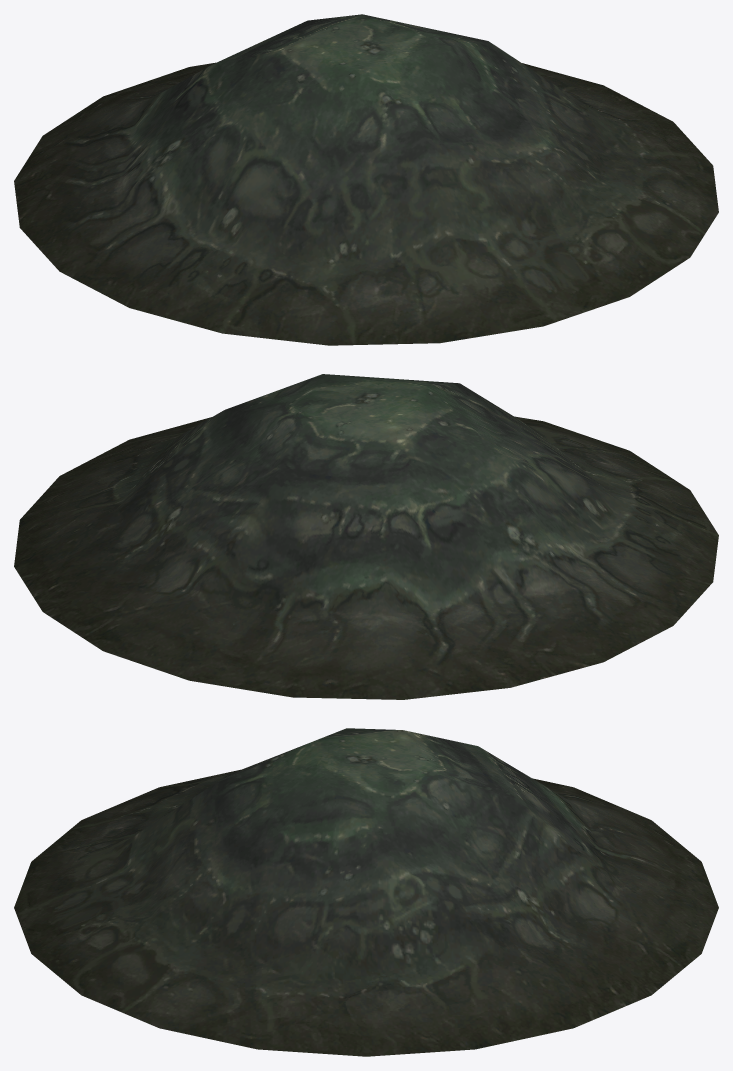
Rendered from stemple_footer_02.fbx.
3 renders of one model, top to bottom at view 1: azimuth 30°, elevation 25°; view 2: azimuth 150°, elevation 25°; view 3: azimuth 270°, elevation 25°, orthographic.
Visible parts, largest first — view 1: sunken_tileset/sunken_rock01_mat; view 2: sunken_tileset/sunken_rock01_mat; view 3: sunken_tileset/sunken_rock01_mat.
Part boxes in pixels (bbox=[...]): sunken_tileset/sunken_rock01_mat: bbox=[14, 14, 718, 345]; sunken_tileset/sunken_rock01_mat: bbox=[14, 374, 718, 699]; sunken_tileset/sunken_rock01_mat: bbox=[14, 728, 718, 1056].
Size of the model in its own units: 8.15 by 1.92 by 8.15.
